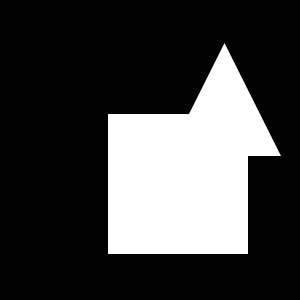circle: (108, 114, 248, 254)
triangle: (168, 43, 281, 156)
